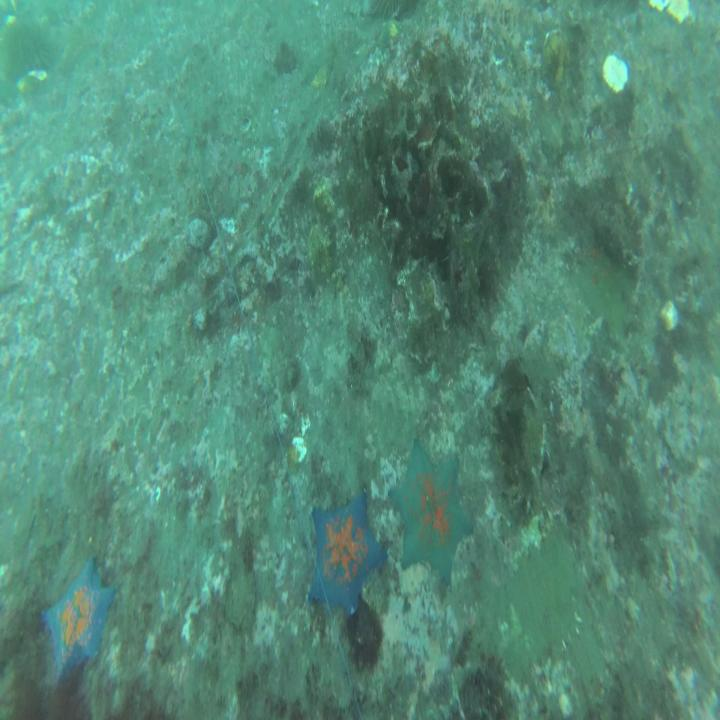echinus: (0, 16, 46, 77), (347, 602, 386, 667)
scallop: (541, 26, 574, 98)
starfish: (390, 438, 476, 581), (39, 555, 117, 683), (310, 507, 386, 602)
